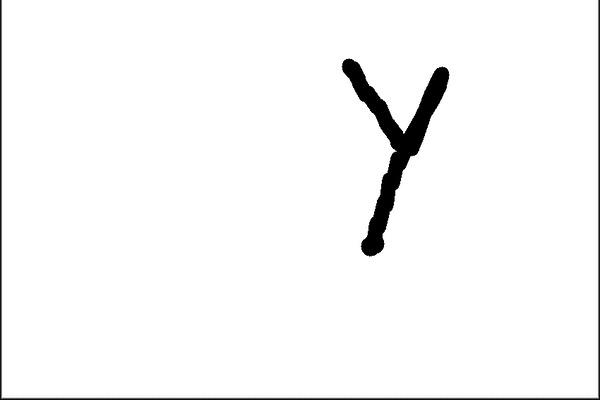Y: (328, 56, 465, 267), (328, 55, 465, 266)
